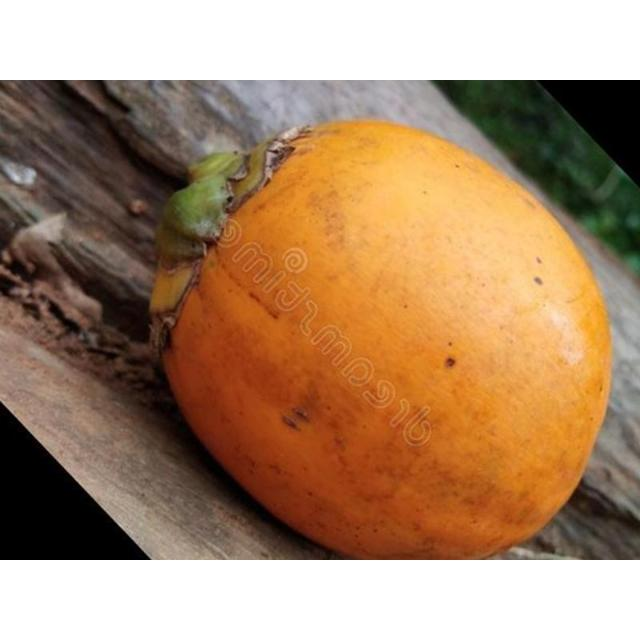good: (149, 120, 614, 559)
